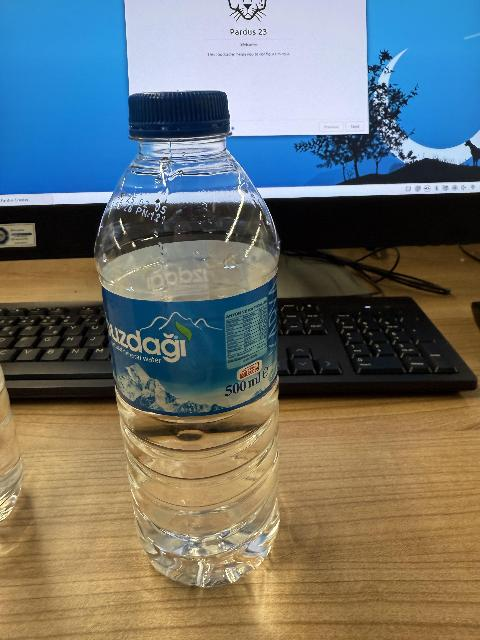Plastik: (92, 94, 297, 581), (95, 286, 284, 405), (130, 97, 230, 135)
